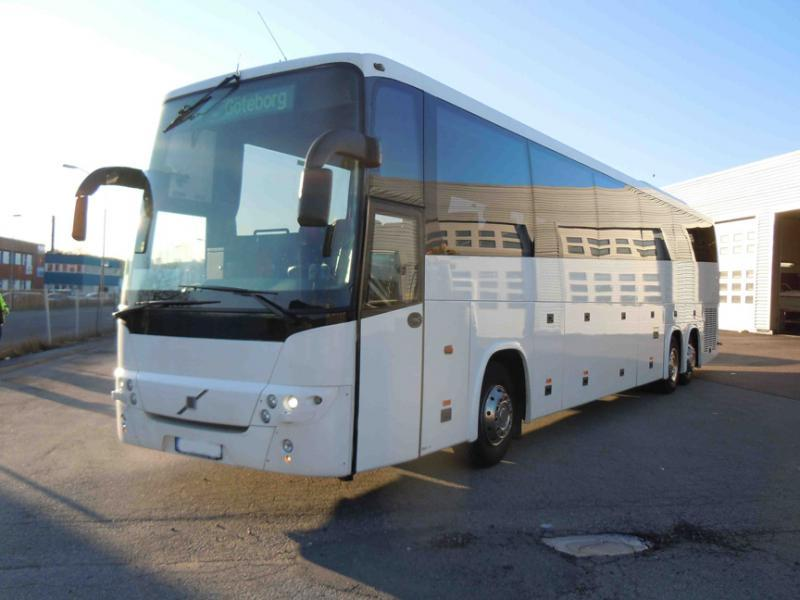bus: (115, 52, 721, 482)
